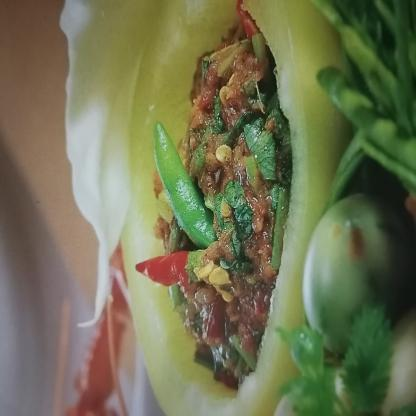Namprig: (109, 17, 310, 416)
